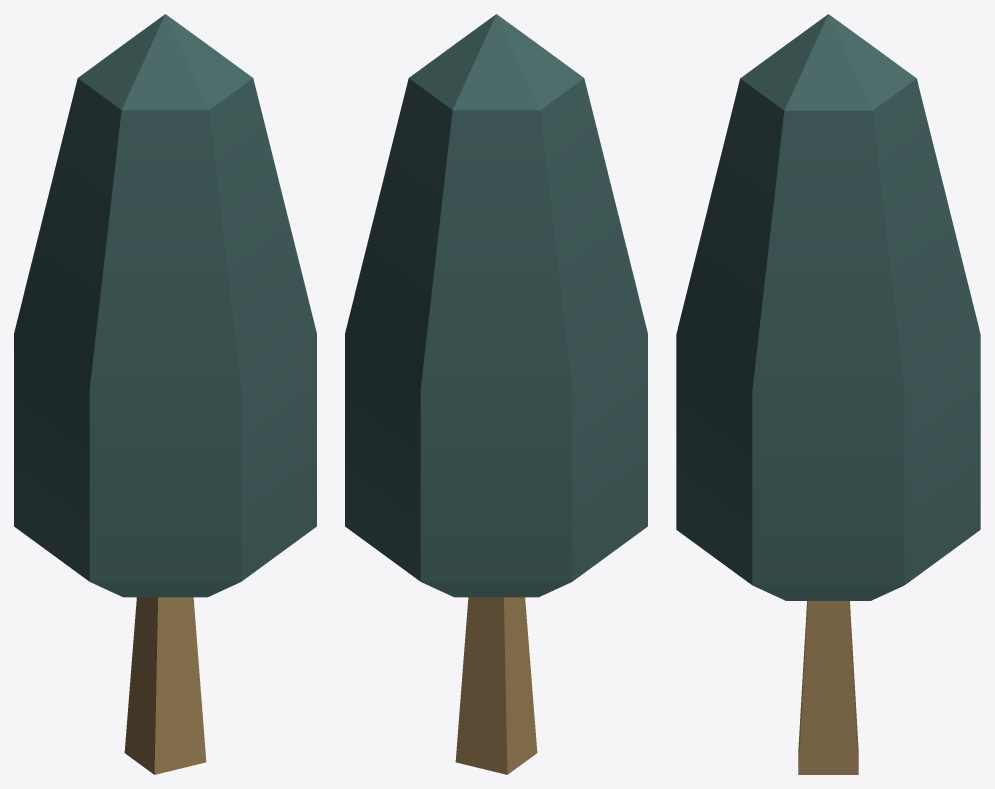
File: Oak_Dark_01.obj
The picture shows the model from 3 angles, left to right: view 1: azimuth 30°, elevation 25°; view 2: azimuth 150°, elevation 25°; view 3: azimuth 270°, elevation 25°; orthographic projection.
Visible parts, largest first — view 1: Mesh1_Oak_Dark_Model; view 2: Mesh1_Oak_Dark_Model; view 3: Mesh1_Oak_Dark_Model.
Boxes of the visible parts, x1,y1,x2,y2 form: Mesh1_Oak_Dark_Model: [14, 14, 316, 774]; Mesh1_Oak_Dark_Model: [345, 14, 647, 774]; Mesh1_Oak_Dark_Model: [676, 14, 980, 774].
Bounding box in the file's own units: 1.58 × 4.93 × 1.82.
